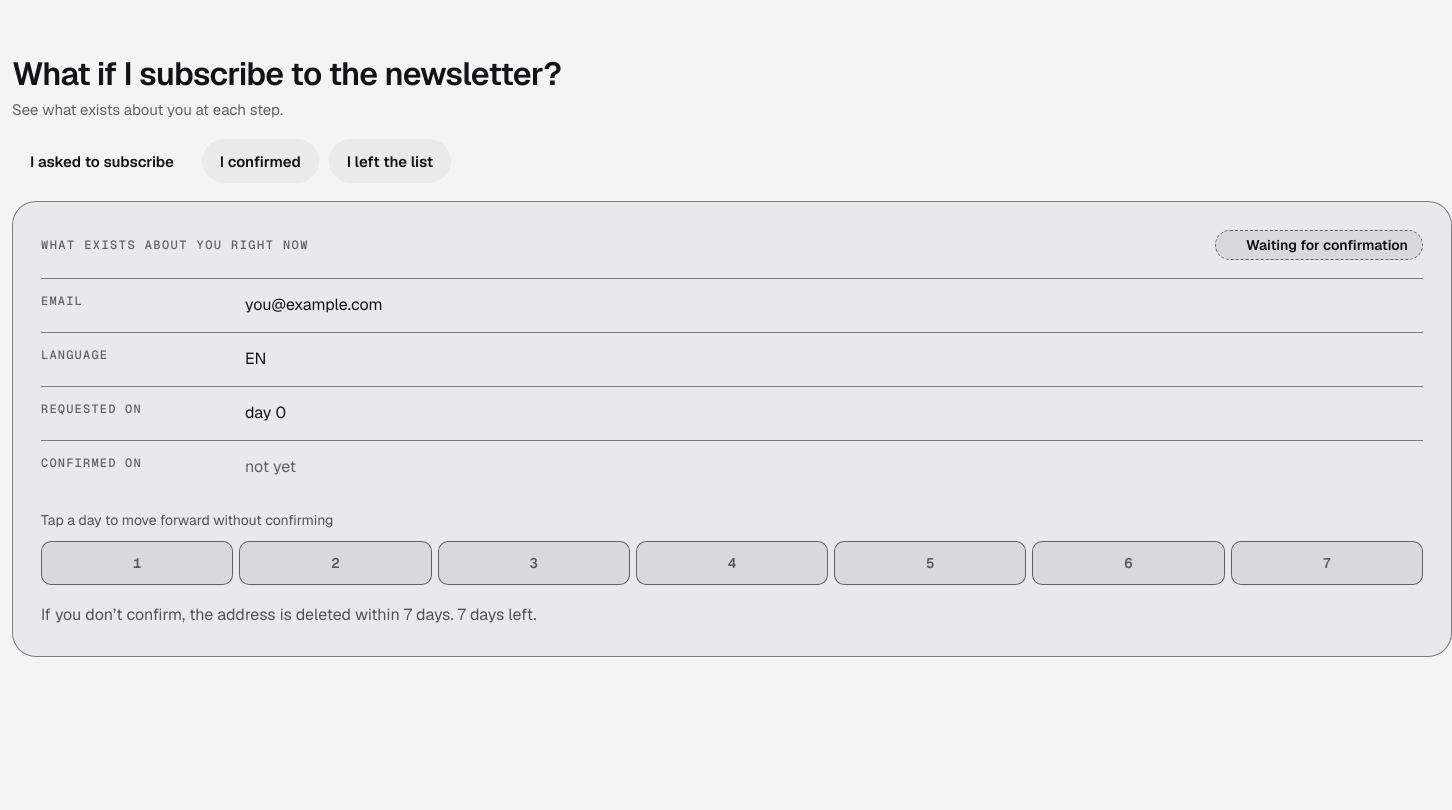
Scenario: PrivacySimulation › keeps the panel in English
This screenshot has width=1452, height=810.
Expected: the text "Waiting for confirmation" is shown, [1215,230,1423,260]
Expected: the text "you@example.com" is shown, [245,294,383,315]
Step 1. Click the button "I confirmed" → [260, 161], box [202,139,319,183]
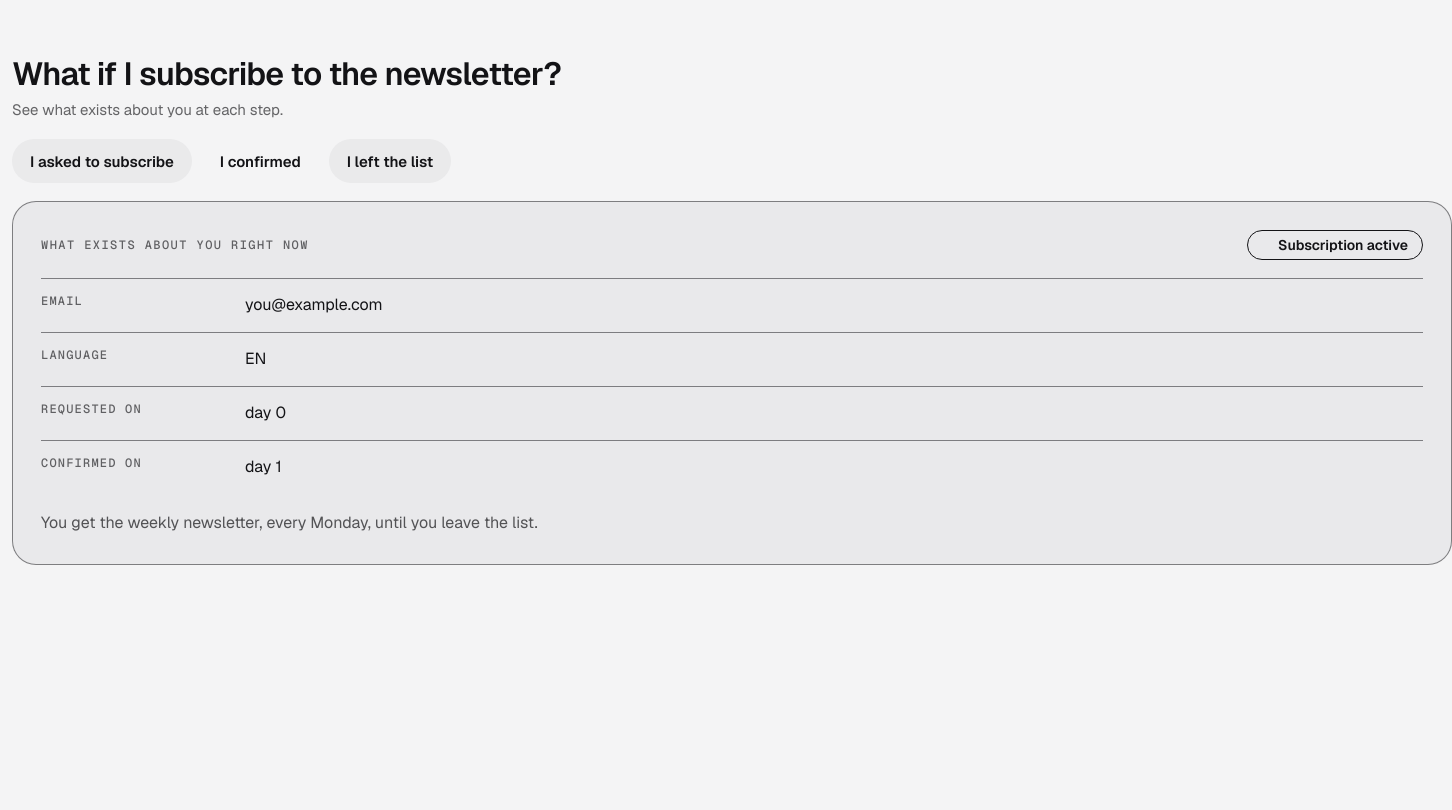
Result: the text "day 1" is shown at [245,456,282,477]
